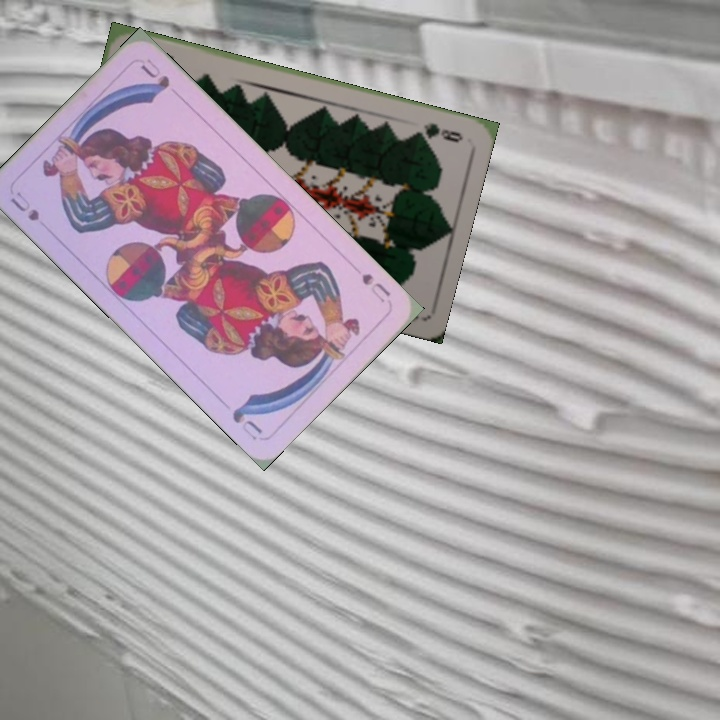G9: (409, 119, 465, 145)
SU: (357, 269, 394, 306), (6, 187, 42, 224)
